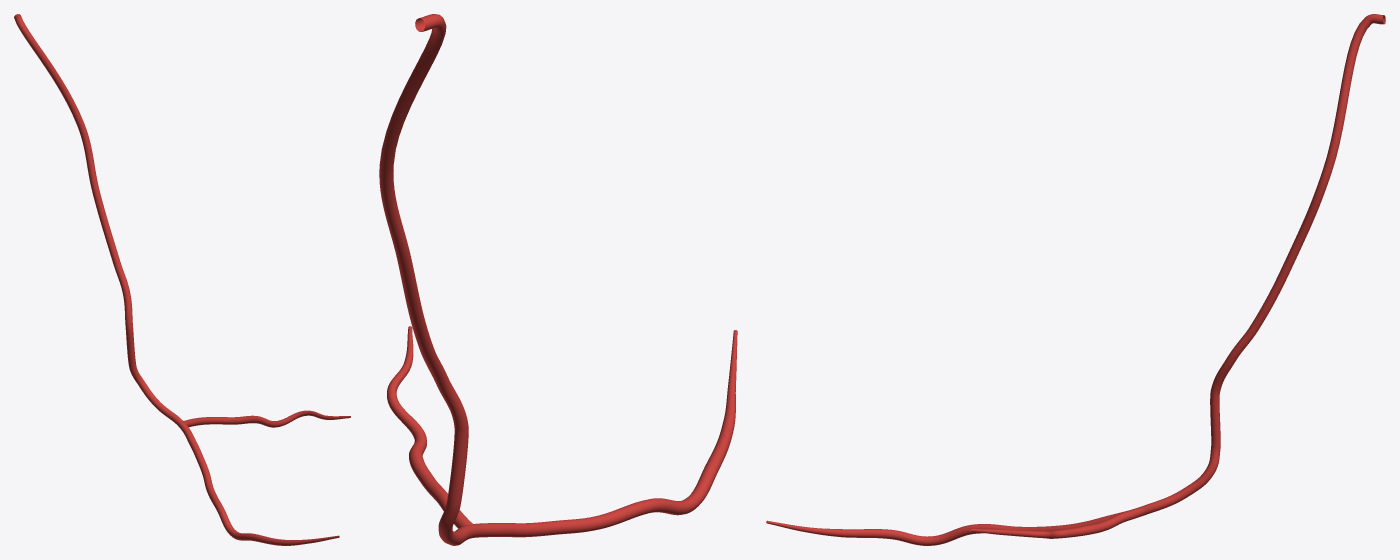
3 views of the same model, side by side, from view 1: azimuth 30°, elevation 25°; view 2: azimuth 150°, elevation 25°; view 3: azimuth 270°, elevation 25° (orthographic). The views are drawn at different scales.
Parts seen in each view (by area): view 1: 左侧眶上动脉; view 2: 左侧眶上动脉; view 3: 左侧眶上动脉.
Boxes of the visible parts, bbox=[...] form: 左侧眶上动脉: bbox=[14, 14, 350, 545]; 左侧眶上动脉: bbox=[379, 14, 737, 545]; 左侧眶上动脉: bbox=[766, 14, 1385, 545].
Size of the model in its own units: 0.0279 by 0.0608 by 0.0674.
